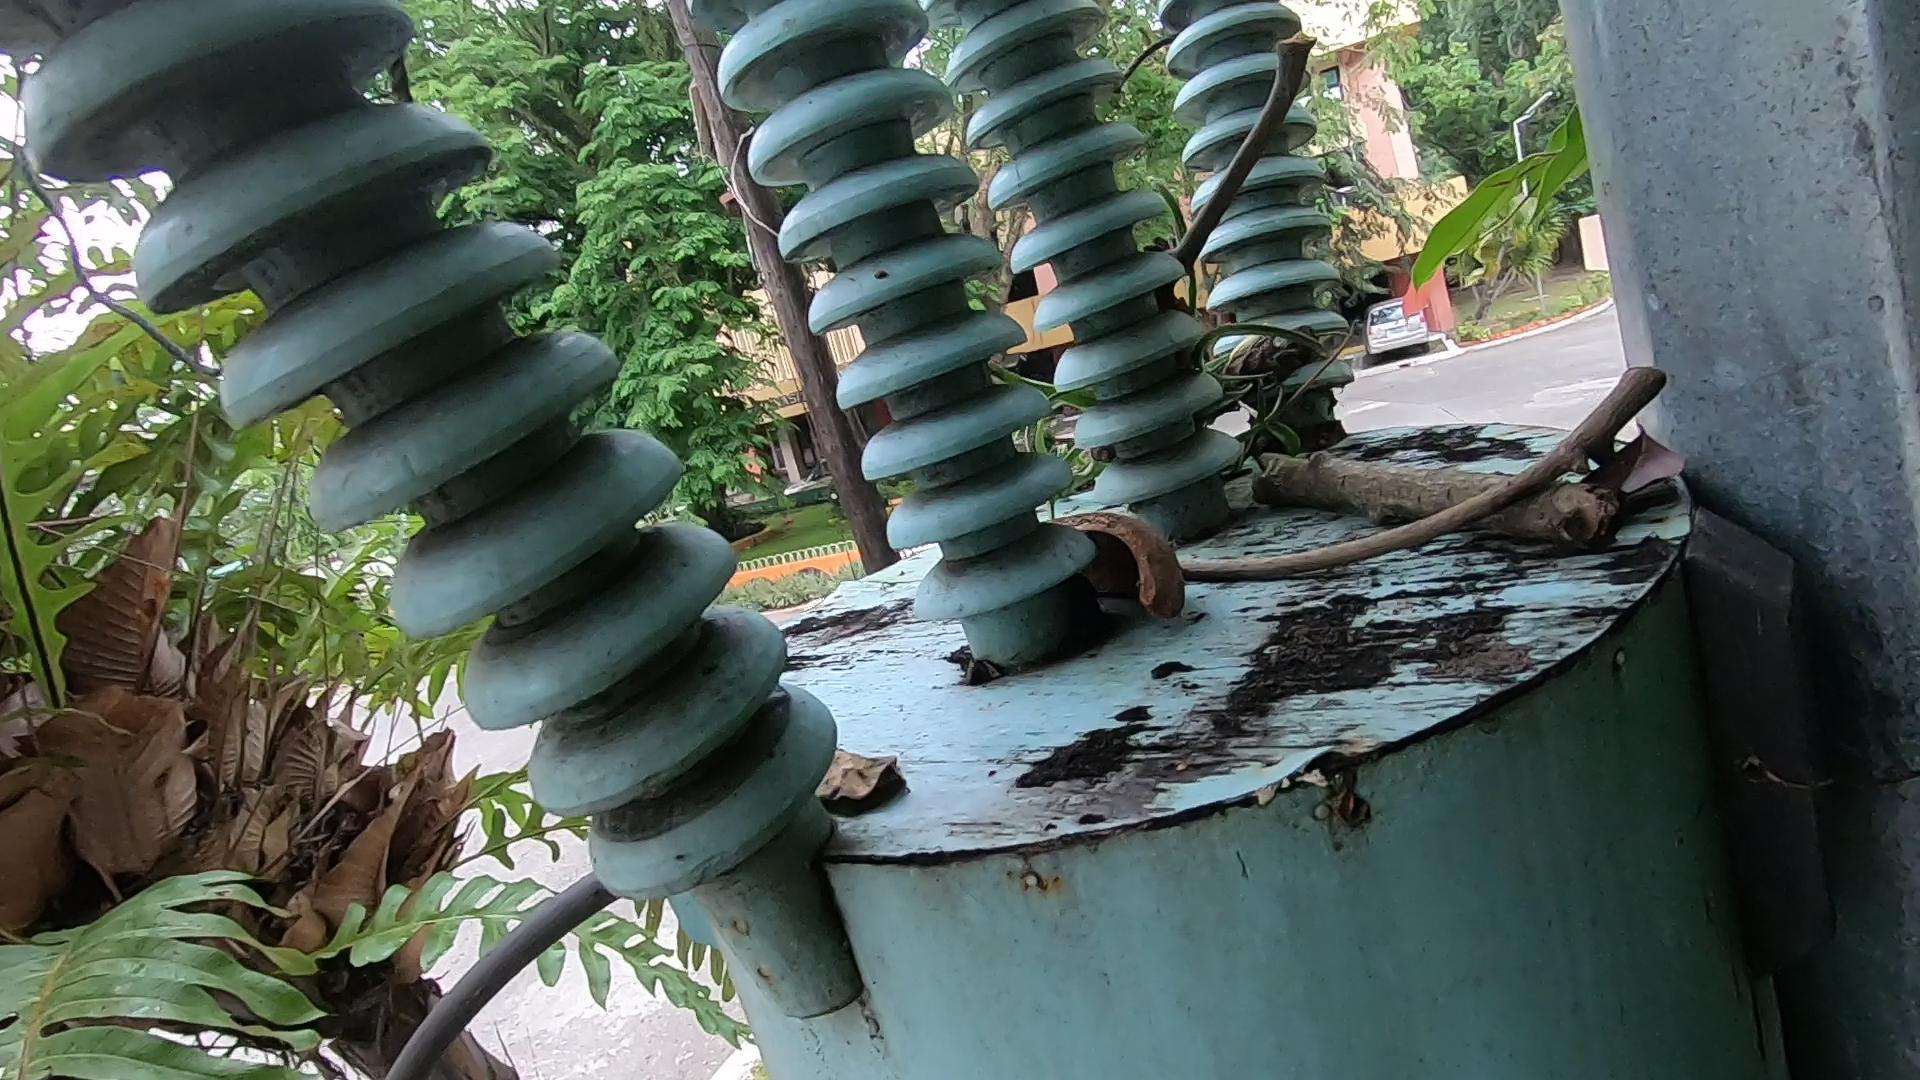branch with leaves: (1153, 320, 1654, 618)
leaf: (774, 717, 928, 857)
mahogany fruit: (1065, 492, 1207, 659)
tree branch: (1114, 491, 1698, 605), (1197, 1, 1303, 298)
